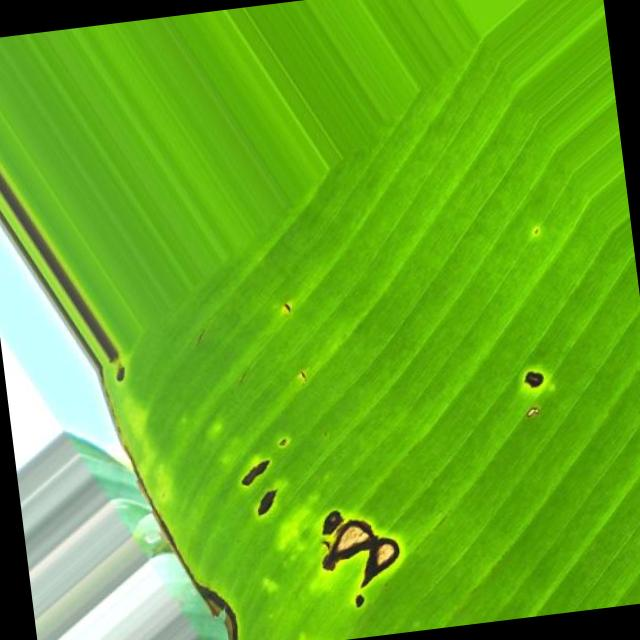Banana_Black_Sigatoka: (220, 368, 432, 623)
